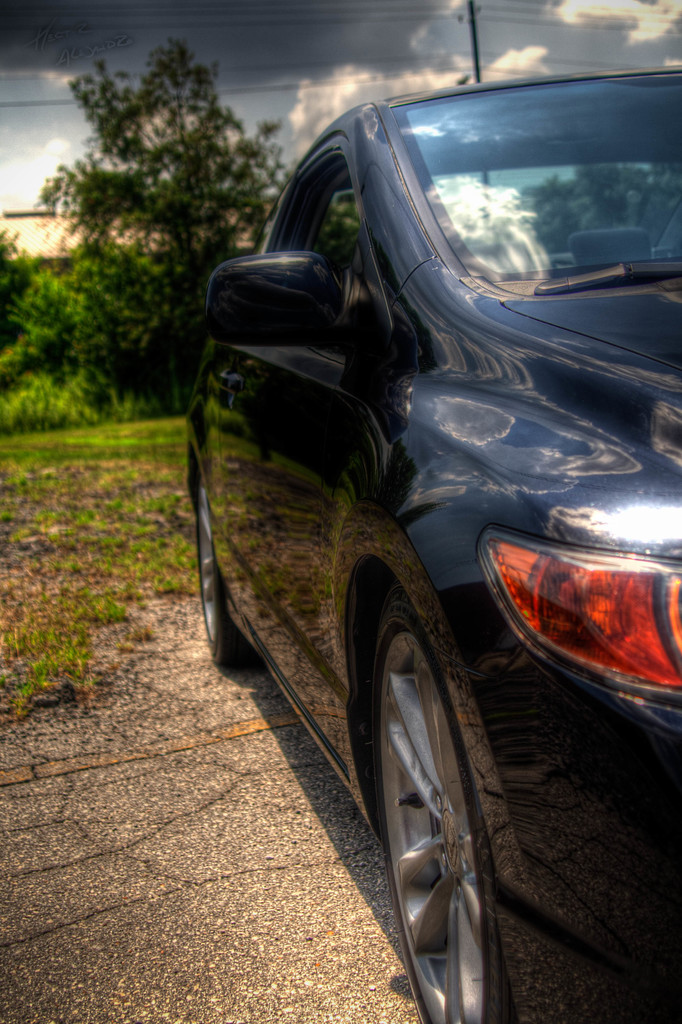cars: (177, 45, 650, 910)
